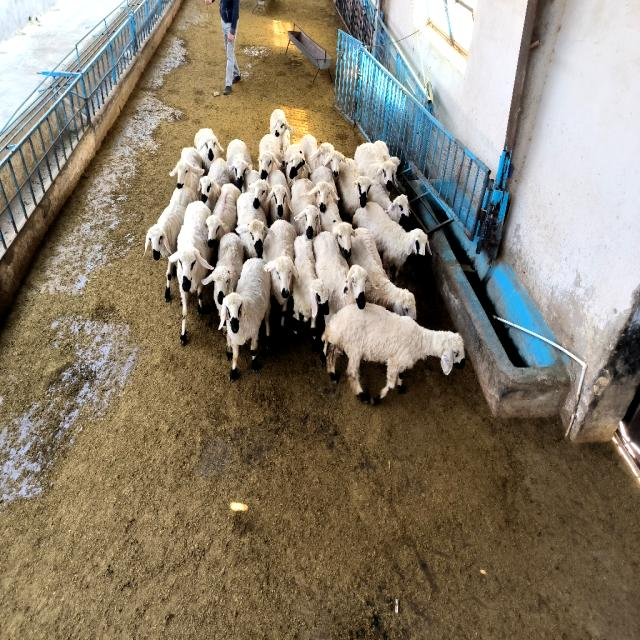sheep: (322, 303, 465, 402), (169, 202, 215, 342), (352, 202, 429, 284), (219, 258, 271, 379), (348, 228, 416, 319), (312, 232, 369, 321), (291, 235, 329, 351), (262, 220, 299, 331), (145, 188, 196, 259), (202, 233, 244, 314), (335, 158, 372, 222), (236, 192, 270, 259), (206, 183, 240, 247), (355, 143, 398, 191), (320, 200, 354, 258), (169, 147, 204, 198), (291, 178, 320, 239), (368, 182, 410, 222), (199, 158, 230, 211), (309, 165, 339, 214), (226, 138, 252, 192), (300, 133, 335, 171), (194, 128, 224, 172), (285, 145, 311, 188), (270, 108, 295, 152), (259, 133, 282, 179), (245, 172, 271, 212), (199, 175, 221, 211), (165, 262, 172, 301)
